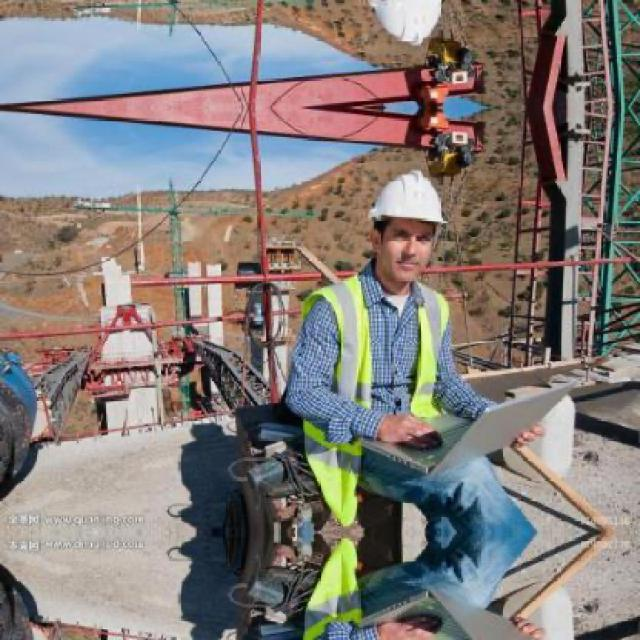reflective_jacket: (287, 264, 463, 495)
safety_helmet: (356, 164, 455, 235)
